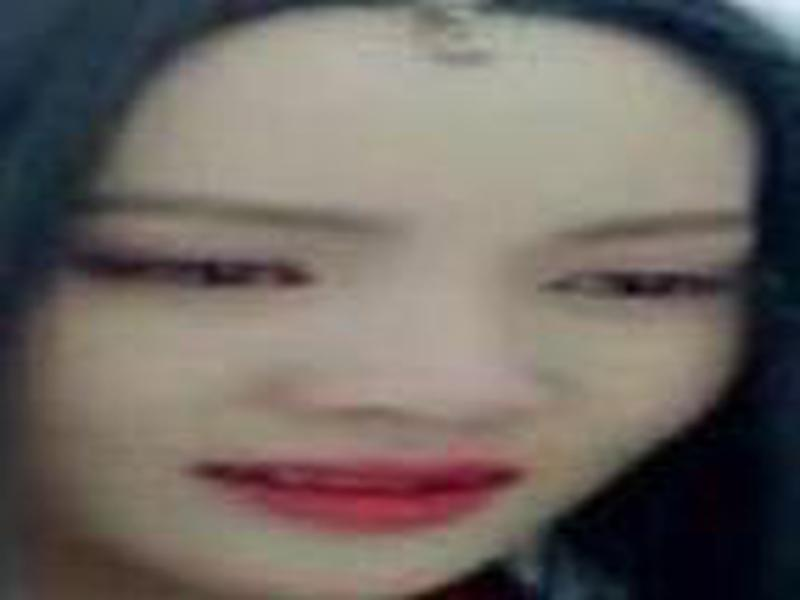without_mask: (19, 78, 762, 600)
